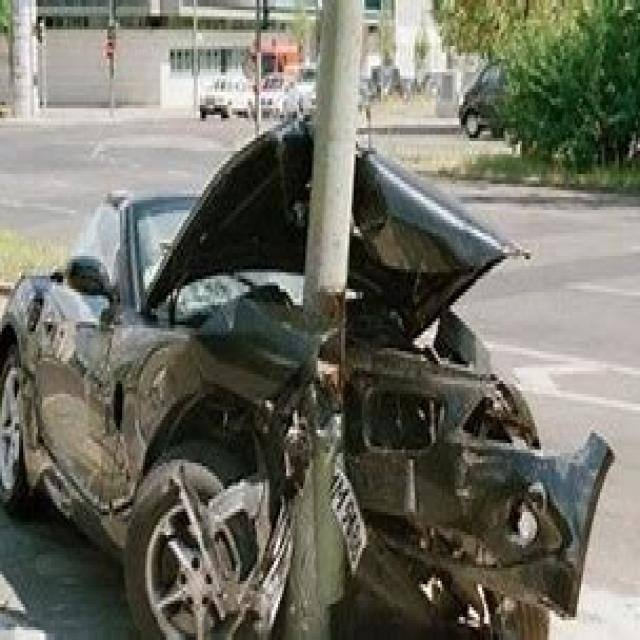Accident: (49, 101, 604, 631)
